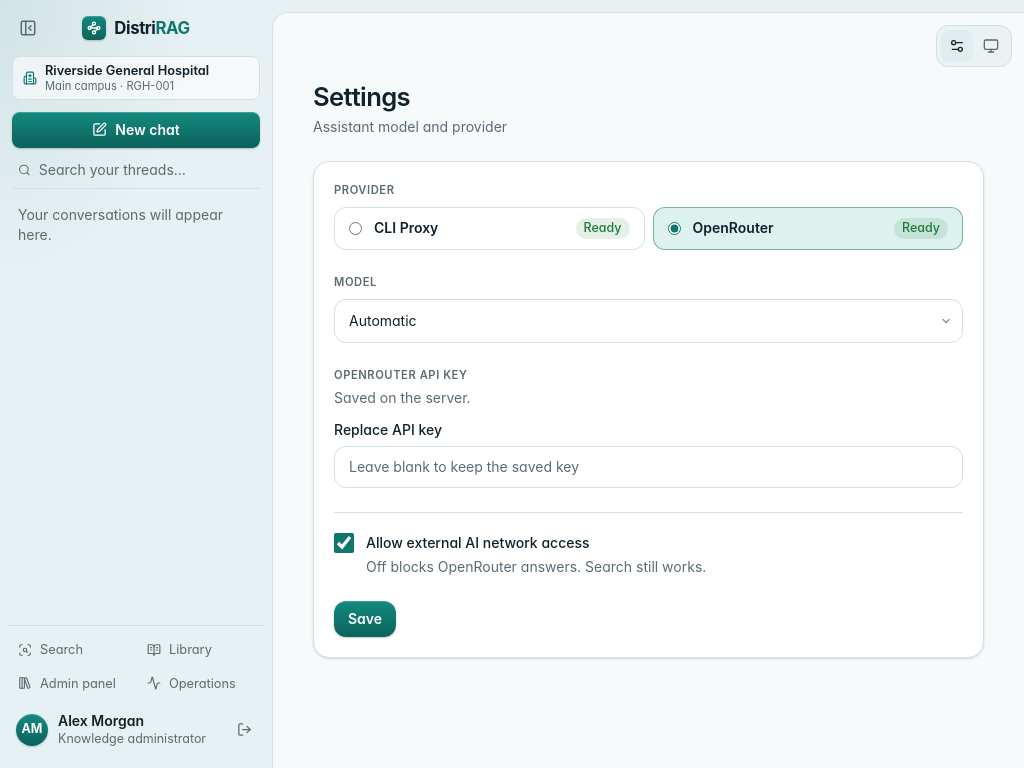
Test: choosing another provider loads its models and saves its key
Click the radio button labelled "CLI Proxy Ready".
click(356, 228)  # box left=349, top=222, right=362, bottom=235
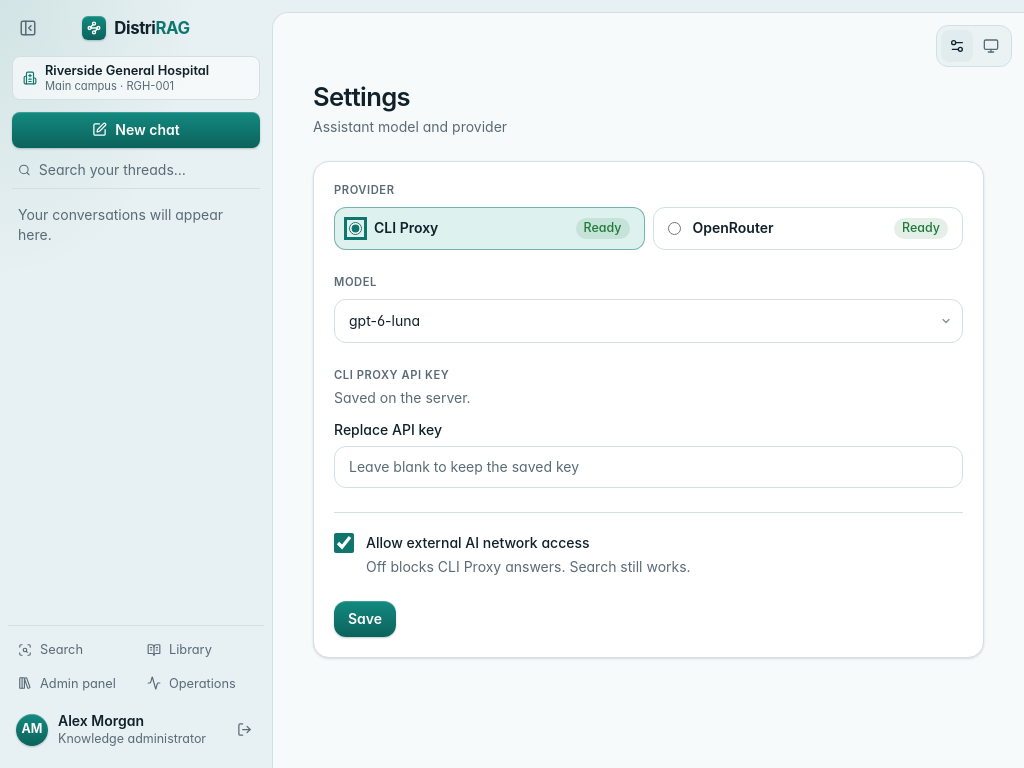
expect the dropdown labelled "Model" shows "gpt-6-luna": met, box left=334, top=299, right=963, bottom=343
expect the text "CLI Proxy API key" is shown: met, box left=334, top=368, right=449, bottom=382
Type "secret" into the password field labelled "Replace API key".
click(648, 467); type("secret")  # box left=334, top=446, right=963, bottom=488
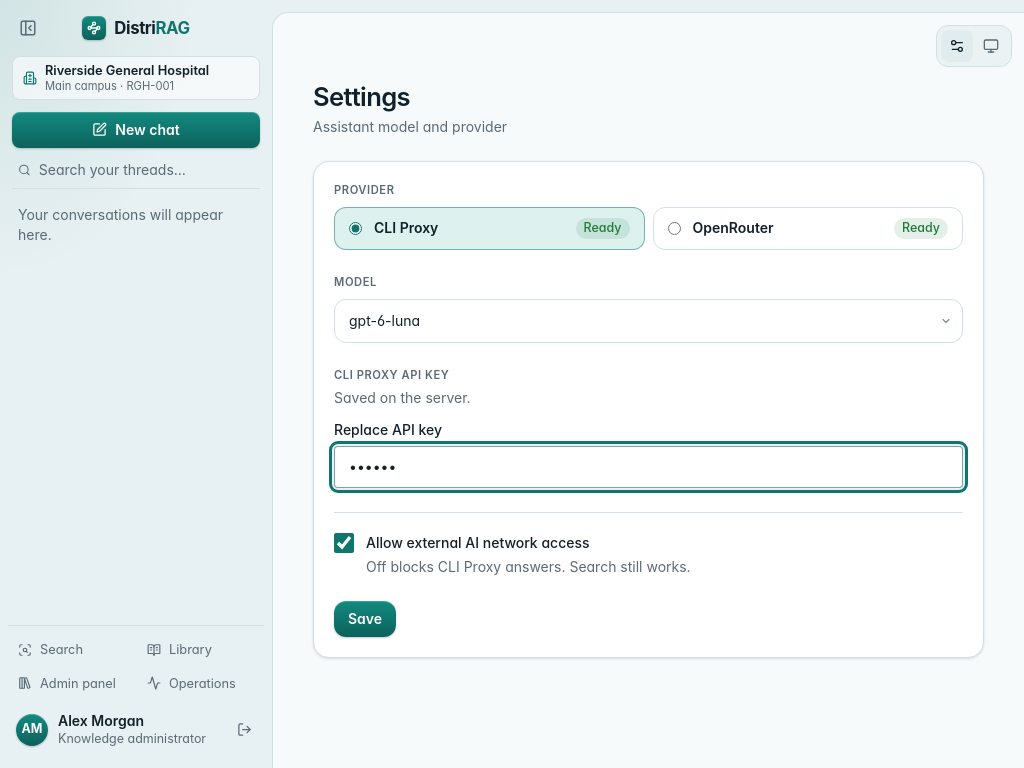
Click the button "Save".
click(365, 619)  # box left=334, top=601, right=396, bottom=637
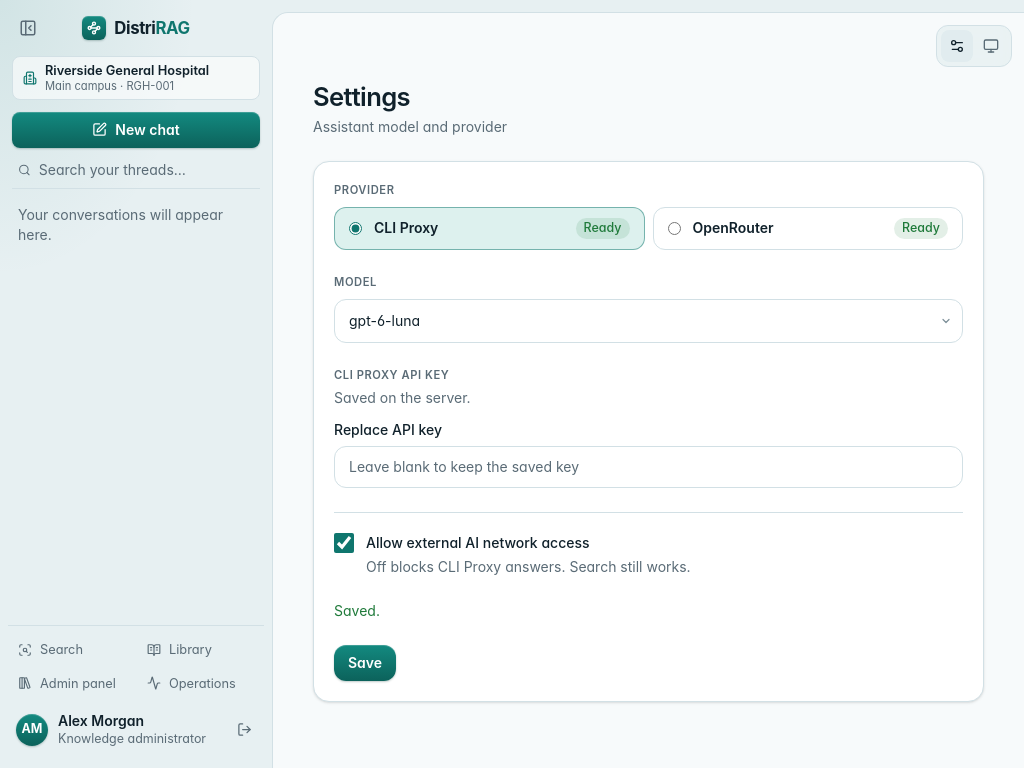
expect the text "Saved." is shown: met, box left=334, top=602, right=380, bottom=619
